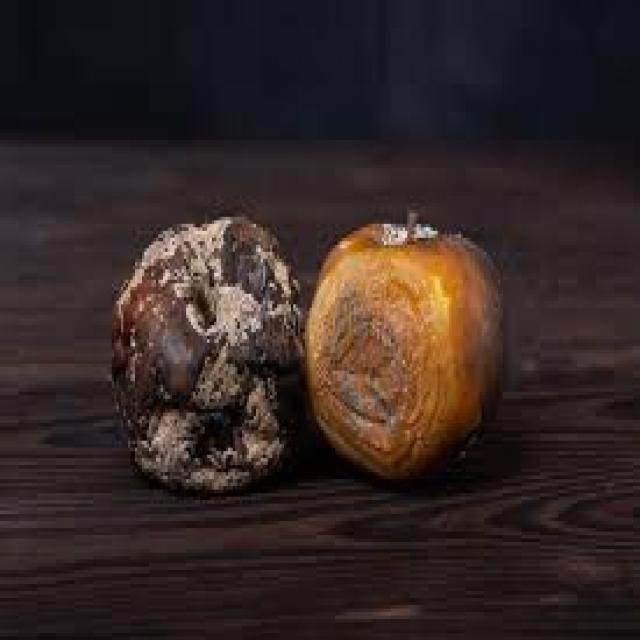organic waste: (300, 199, 500, 479), (109, 213, 298, 493)
